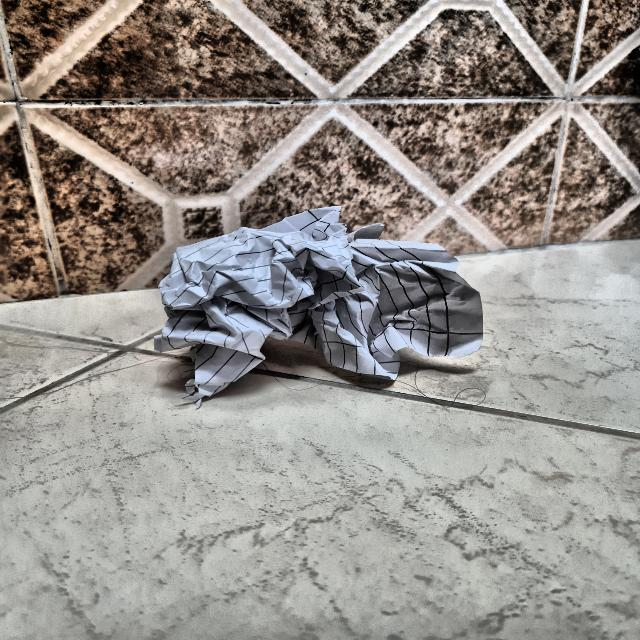Paper: (159, 210, 488, 394)
